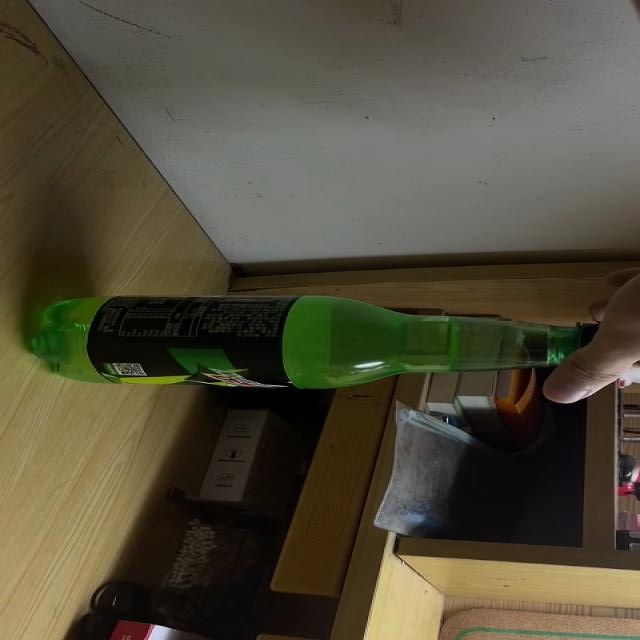Mountain-Dew: (29, 294, 626, 391)
